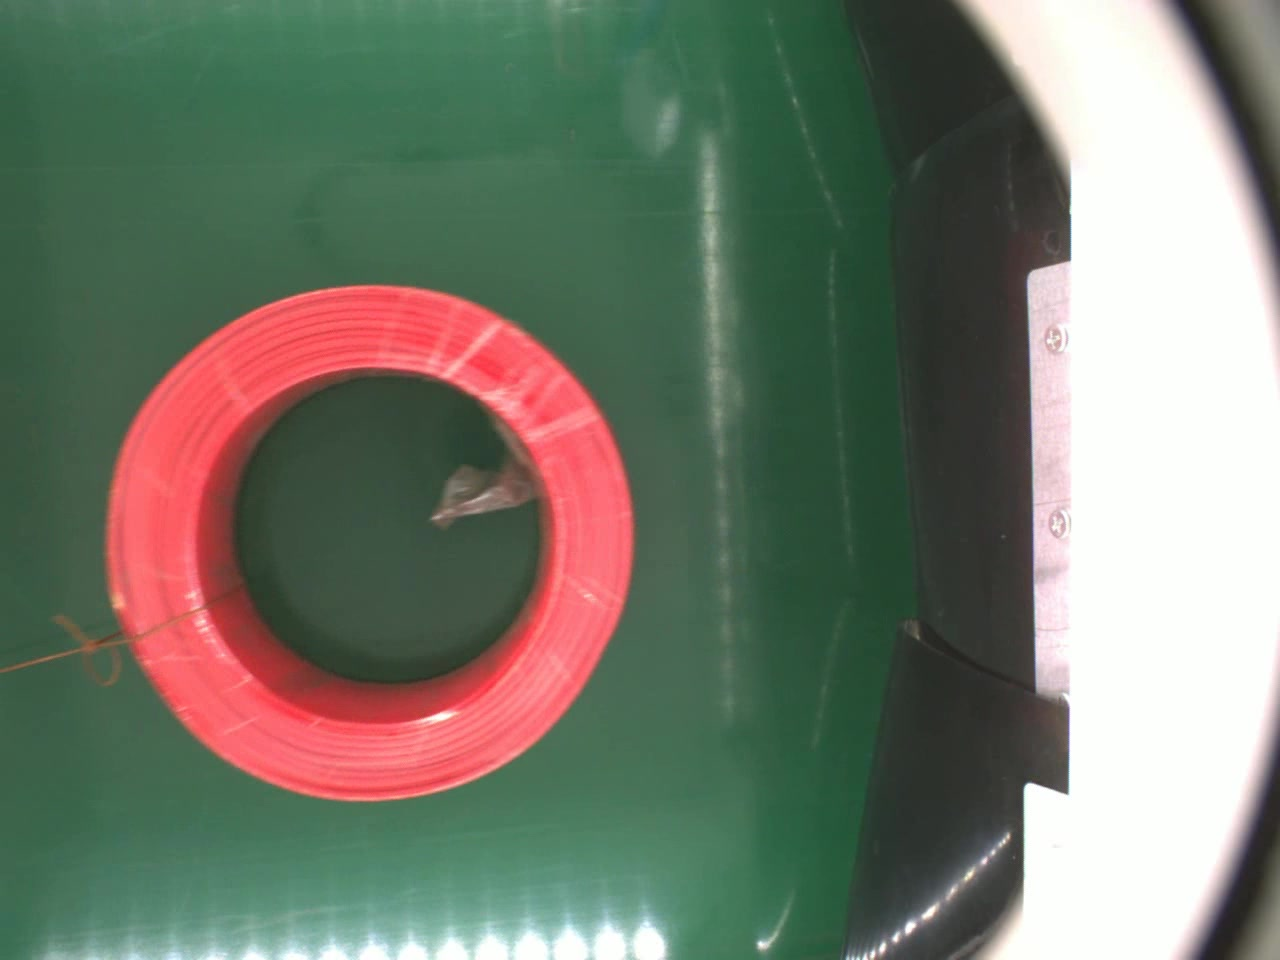red: (99, 280, 637, 803)
